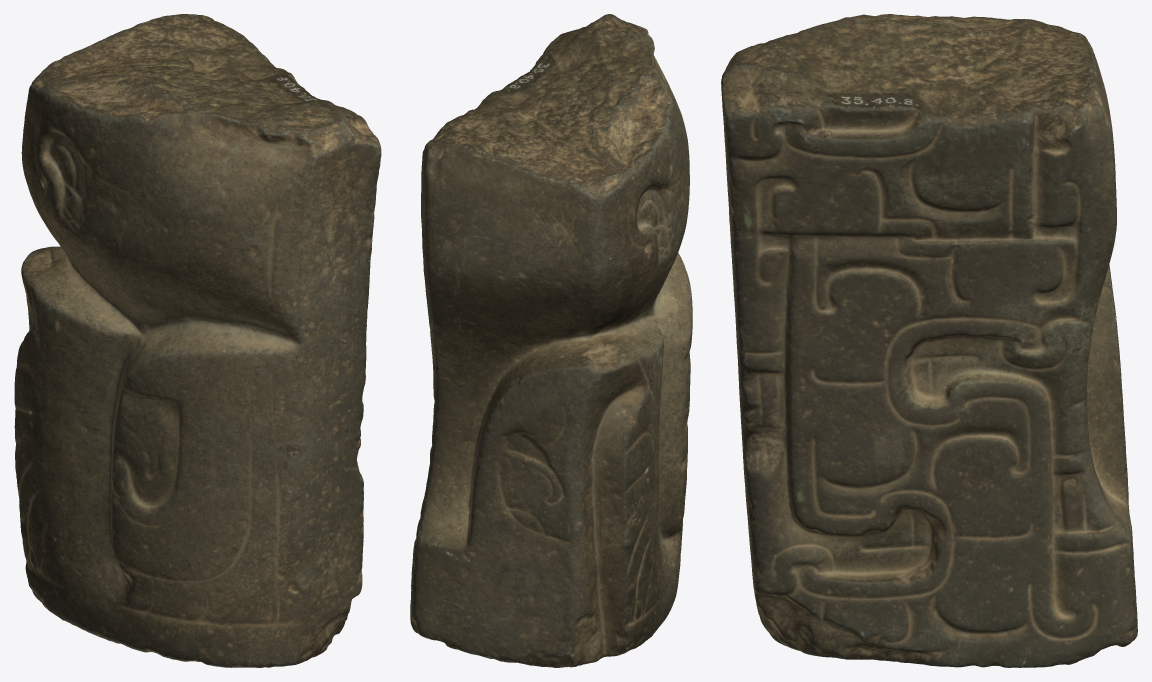
The model's file is totonacas.glb.
The picture shows the model from 3 angles, left to right: view 1: azimuth 30°, elevation 25°; view 2: azimuth 150°, elevation 25°; view 3: azimuth 270°, elevation 25°; orthographic projection. The views are drawn at different scales.
Parts seen in each view (by area): view 1: Model; view 2: Model; view 3: Model.
Boxes of the visible parts, x1,y1,x2,y2 form: Model: (14,14,381,667); Model: (410,14,692,667); Model: (721,14,1137,667).
Size of the model in its own units: 79.95 by 194 by 125.
Materials: 1 (1 with a texture image).
